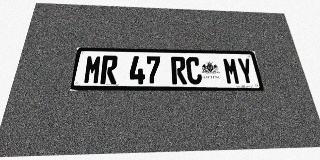4: (129, 56, 145, 84)
7: (145, 56, 161, 84)
C: (186, 57, 203, 84)
M: (83, 55, 102, 84), (222, 58, 241, 85)
R: (100, 55, 118, 84), (171, 57, 187, 84)
Y: (236, 58, 255, 85)
